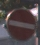No entry: (5, 6, 35, 40)
